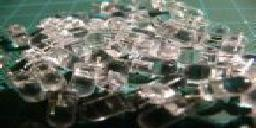LED: (81, 16, 197, 102), (45, 91, 81, 128)
